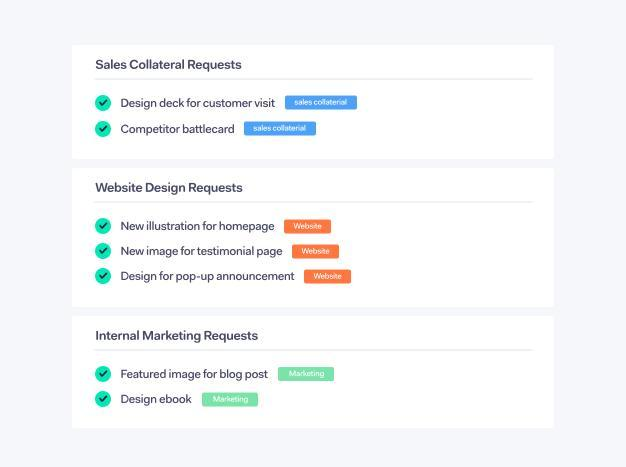button: (286, 96, 358, 111), (245, 122, 317, 136), (202, 393, 260, 408), (279, 368, 335, 382), (304, 270, 352, 285), (293, 245, 340, 260), (286, 220, 332, 235)
checkbox: (94, 267, 113, 287), (94, 391, 113, 409), (94, 366, 114, 383), (95, 121, 113, 139), (94, 218, 113, 235), (96, 242, 113, 261), (96, 96, 112, 113)
label: (121, 269, 299, 284), (120, 245, 284, 260), (117, 221, 278, 235), (122, 96, 279, 110), (120, 368, 271, 381), (120, 123, 236, 136), (122, 393, 194, 407)
